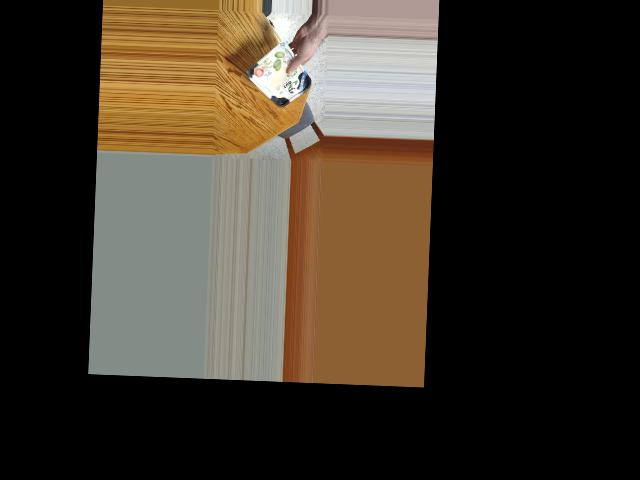cheese: (251, 59, 309, 100)
